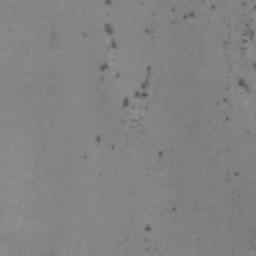Oxide scale of temperature system: (81, 0, 152, 108), (143, 1, 216, 33), (221, 77, 252, 124), (237, 4, 256, 52), (93, 133, 116, 151), (143, 223, 154, 233), (232, 169, 242, 178), (169, 204, 178, 212), (156, 150, 165, 157)
